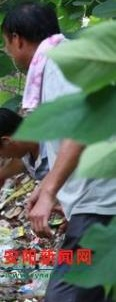hard-hat: (0, 43, 20, 77)
